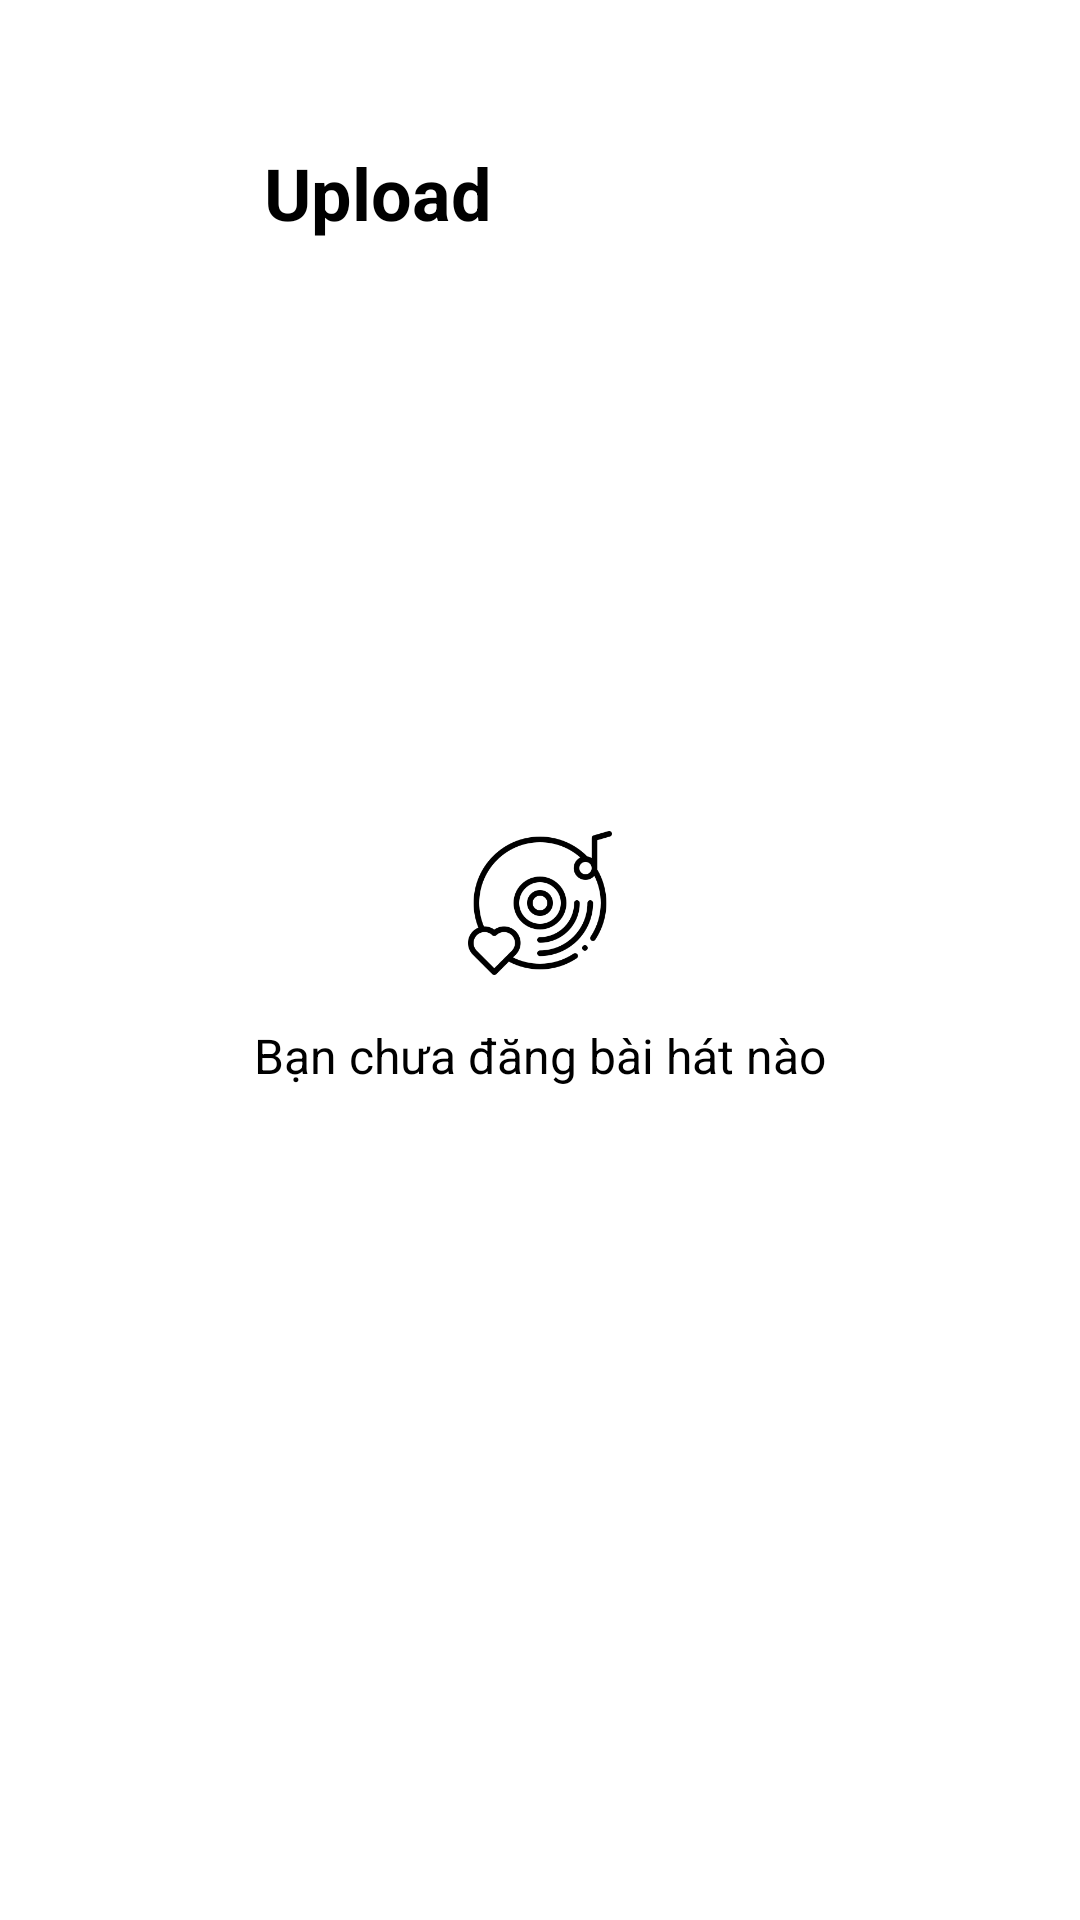

Named icons in this screenshot (1080w x 1920h) and their centers, (x,y):
song: (540,903)
